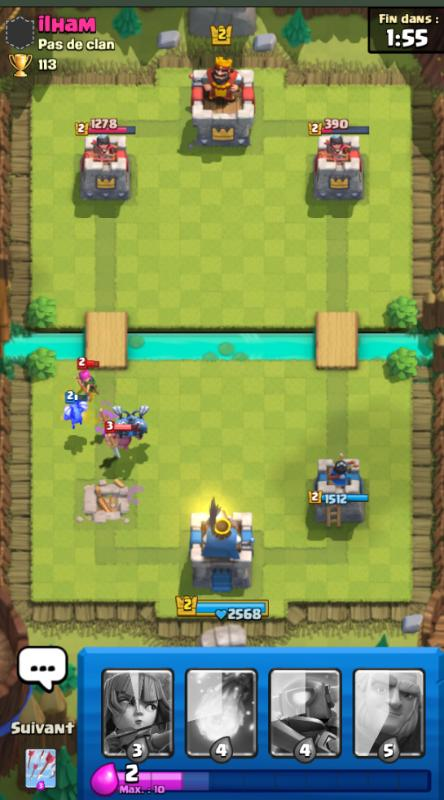archere: (79, 368, 101, 396)
gargouille: (114, 404, 132, 440), (63, 397, 86, 425), (133, 407, 148, 439)
mini_PEKKA: (101, 421, 138, 450)
